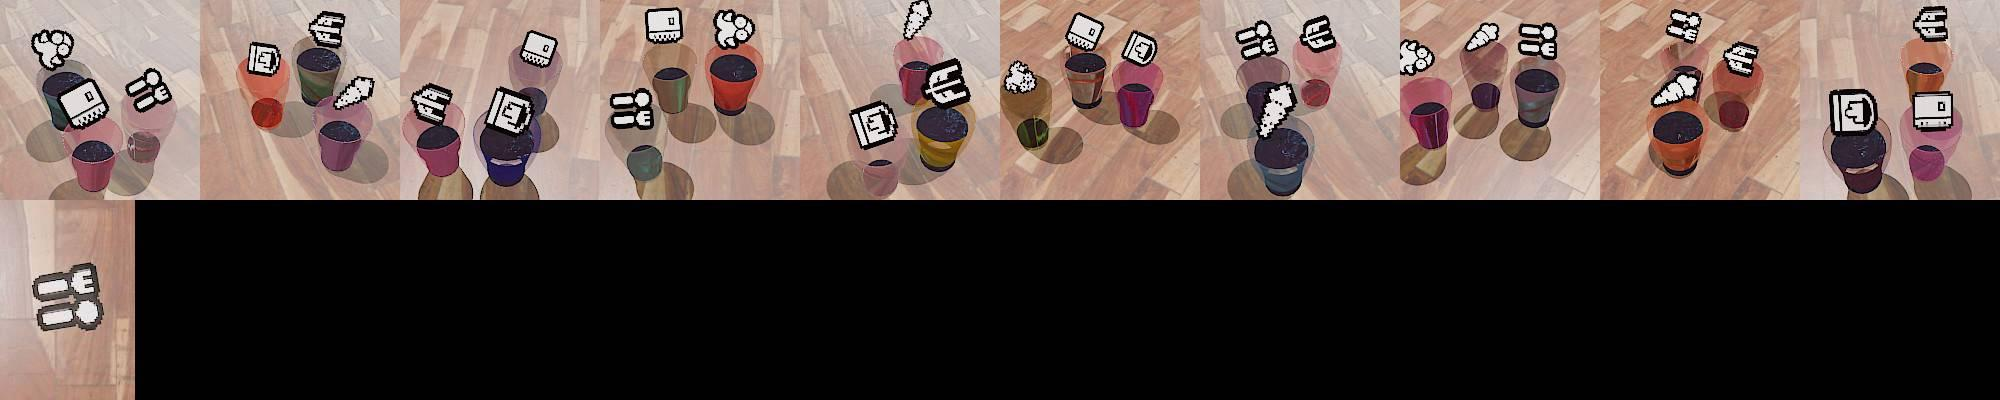icon: (31, 262, 106, 332), (57, 76, 111, 131), (848, 98, 899, 150), (482, 87, 534, 136), (922, 57, 969, 110), (1255, 80, 1296, 140), (124, 68, 173, 115), (1828, 89, 1878, 135), (1651, 65, 1703, 108), (607, 85, 654, 129), (1236, 17, 1279, 62), (712, 9, 758, 51), (31, 28, 74, 71), (411, 83, 453, 125), (1517, 20, 1560, 61), (1911, 90, 1953, 131), (1065, 11, 1105, 52), (332, 74, 375, 111), (1298, 15, 1338, 55), (519, 29, 559, 68), (644, 8, 685, 45), (307, 10, 346, 48), (1120, 29, 1157, 68), (1721, 42, 1760, 78), (1399, 38, 1435, 76), (245, 42, 283, 78), (1666, 9, 1703, 45), (902, 0, 932, 42), (1913, 6, 1949, 42), (1464, 20, 1503, 54), (1004, 60, 1038, 96)
